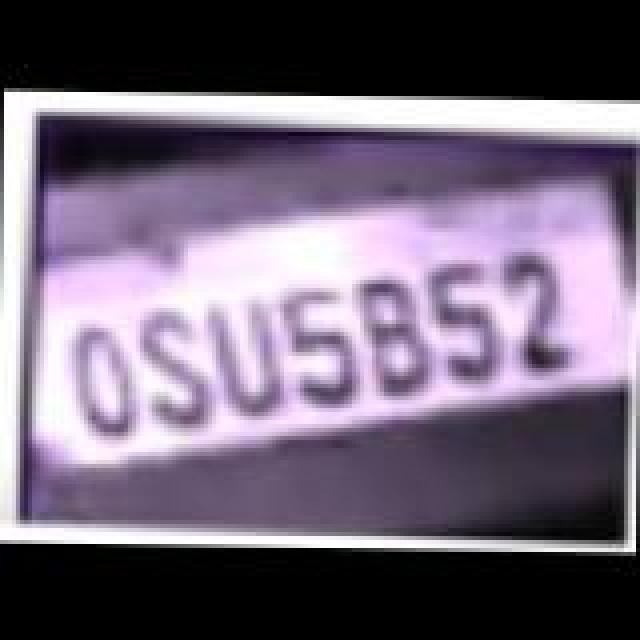2: (490, 244, 590, 372)
5: (418, 254, 510, 382), (278, 282, 370, 406)
B: (354, 272, 446, 396)
O: (60, 314, 144, 438)
S: (134, 304, 226, 428)
U: (206, 292, 298, 416)
